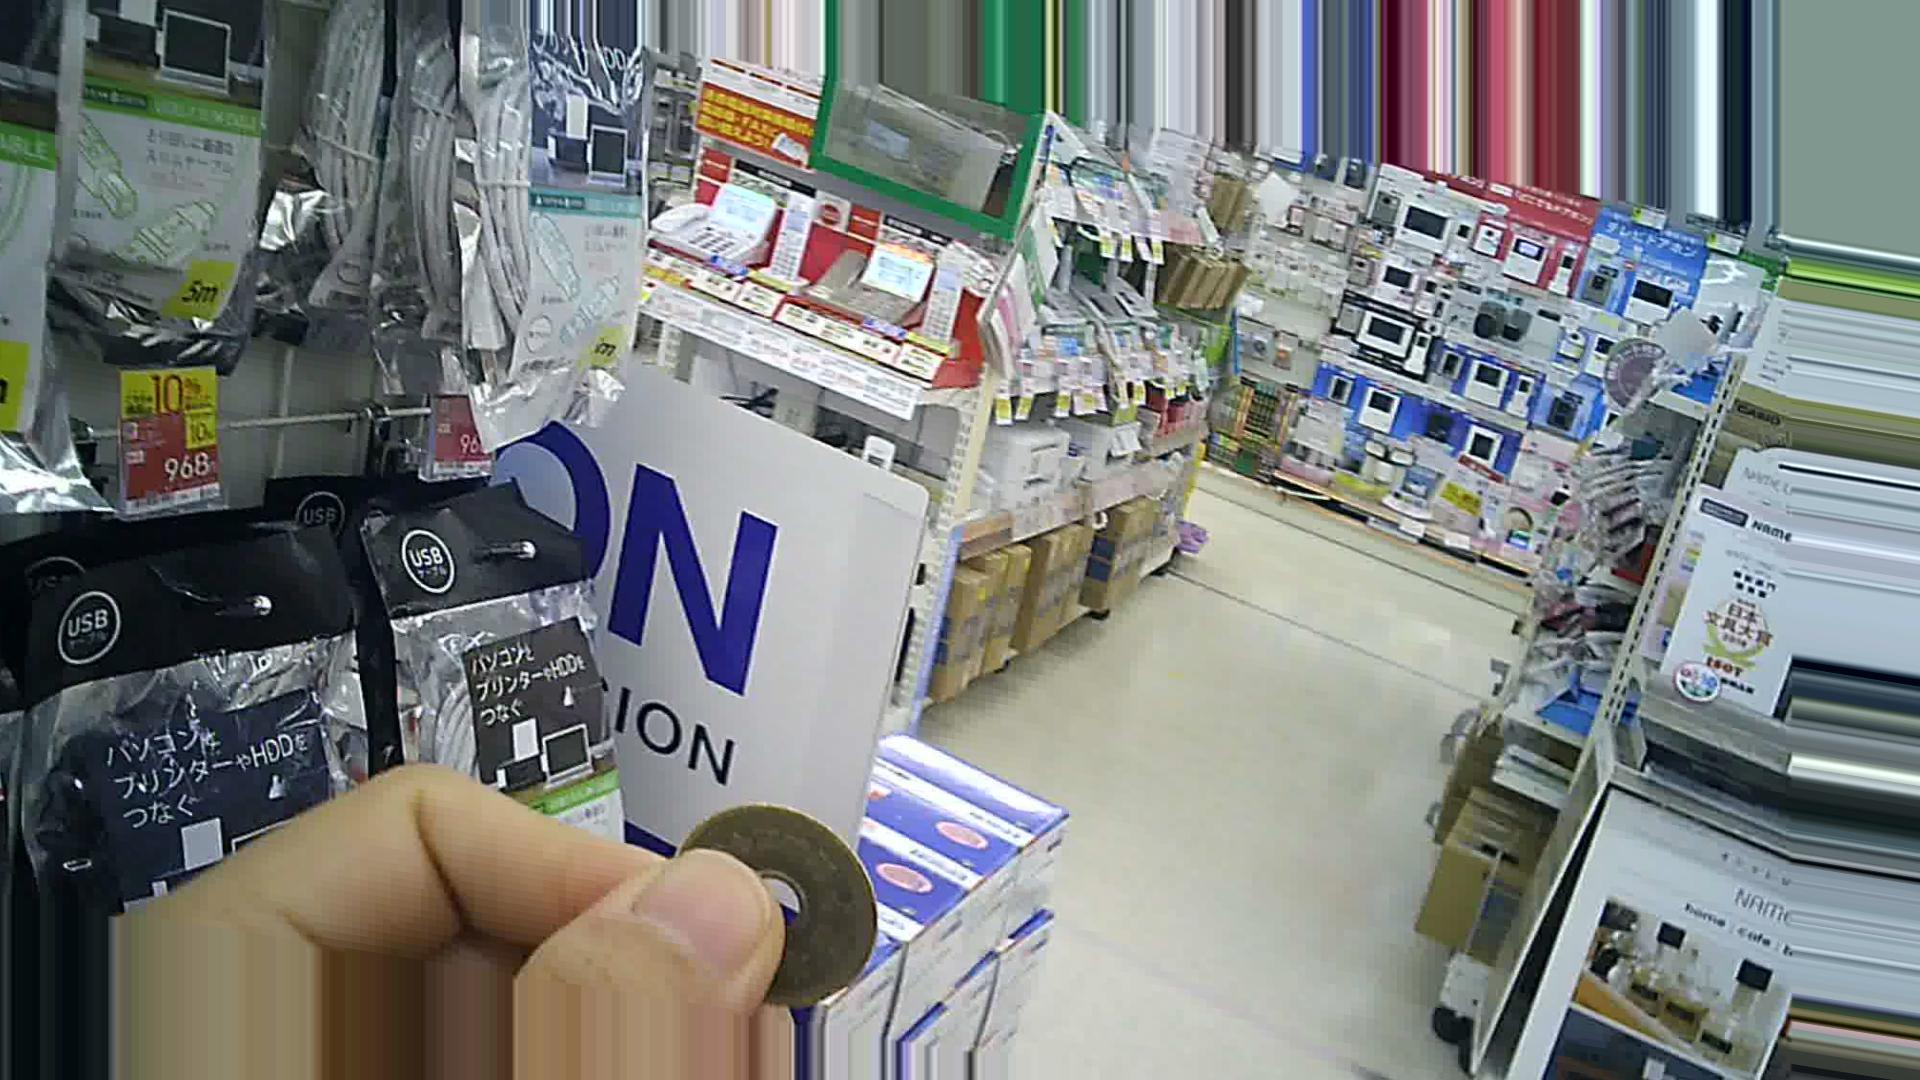5 Yen: (666, 803, 886, 996)
